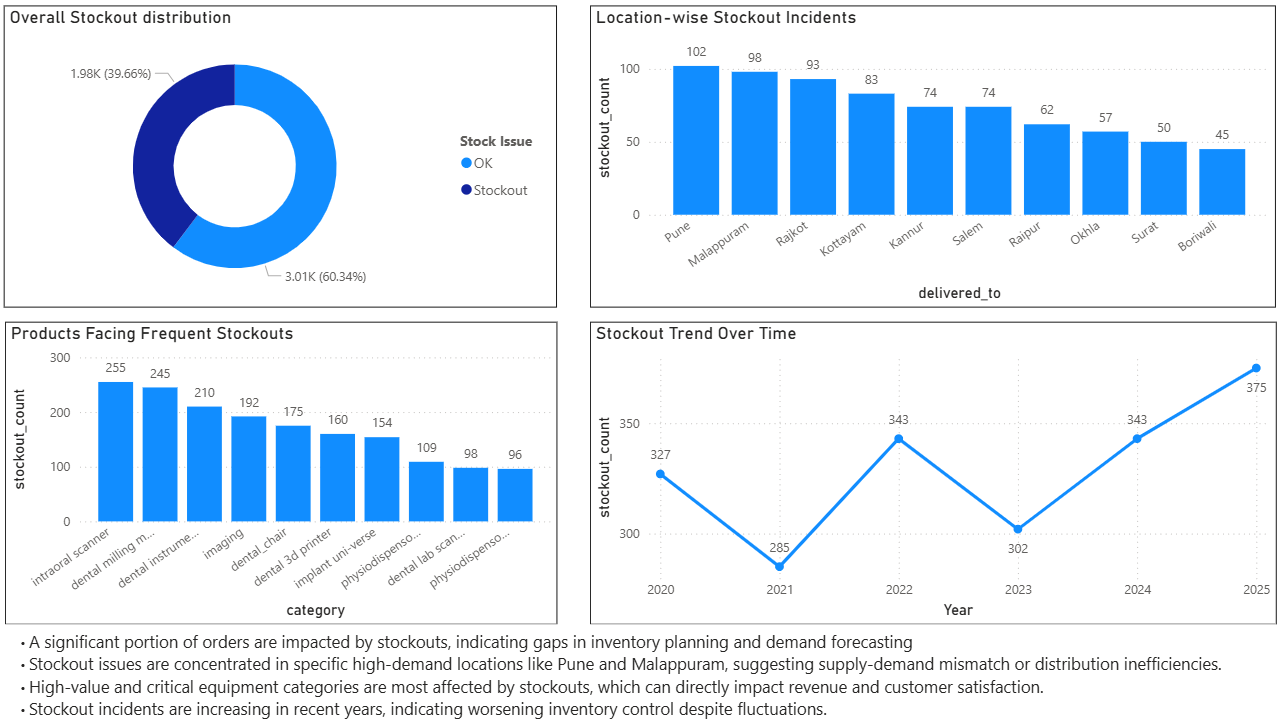

The page's visual inventory and layout, read from the dashboard file:
{"tool":"powerbi","page":{"name":"Inventory Analysis","canvas":[1280,720],"ordinal":3},"visuals":[{"type":"donutChart","title":"Overall Stockout distribution","fields":{"Y":["CountNonNull(Orders_cleaned.Stock Issue)"],"Category":["Orders_cleaned.Stock Issue"]},"box":[18.3,12.2,530.7,289.8],"z":0},{"type":"clusteredColumnChart","title":"Products Facing Frequent Stockouts","fields":{"Category":["Orders_cleaned.category"],"Y":["high_value_product_categories.stockout_count"]},"box":[18.9,314.9,529.8,290.6],"z":1000},{"type":"columnChart","title":"Location-wise Stockout Incidents","fields":{"Category":["Orders_cleaned.delivered_to"],"Y":["high_value_product_categories.stockout_count"]},"box":[579.6,12.2,657.9,289.8],"z":2000},{"type":"lineChart","title":"Stockout Trend Over Time","fields":{"Category":["datetable.Year"],"Y":["high_value_product_categories.stockout_count"]},"box":[579.9,314.9,658.2,290.6],"z":3000},{"type":"textbox","box":[18.9,605.5,1219.2,101.4],"z":4000}]}

Visuals, with their boxes in screenshot pixels (x1, y1, x2, y2), scaled from the page's 1280x720 canvas onto the 1288x725 screenshot:
"Overall Stockout distribution" donutChart: <bbox>18, 12, 552, 304</bbox>
"Products Facing Frequent Stockouts" clusteredColumnChart: <bbox>19, 317, 552, 610</bbox>
"Location-wise Stockout Incidents" columnChart: <bbox>583, 12, 1245, 304</bbox>
"Stockout Trend Over Time" lineChart: <bbox>584, 317, 1246, 610</bbox>
textbox: <bbox>19, 610, 1246, 712</bbox>
